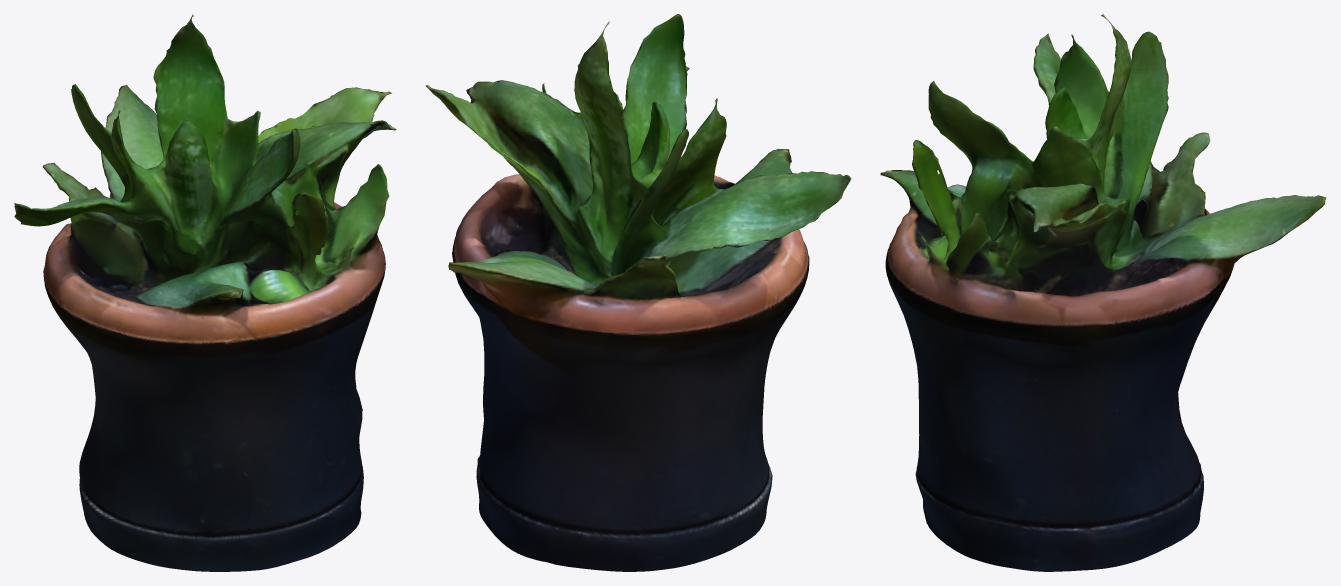
Rendered from product.glb.
3 views of the same model, side by side, from view 1: azimuth 30°, elevation 25°; view 2: azimuth 150°, elevation 25°; view 3: azimuth 270°, elevation 25° (orthographic). The views are drawn at different scales.
Parts seen in each view (by area): view 1: 3DModel; view 2: 3DModel; view 3: 3DModel.
Part boxes in pixels (x1=…): 3DModel: x1=14, y1=14, x2=396, y2=571; 3DModel: x1=425, y1=14, x2=851, y2=571; 3DModel: x1=880, y1=14, x2=1326, y2=571.
Bounding box in the file's own units: 0.4425 × 0.5238 × 0.4286.
Materials: 1 (1 with a texture image).
